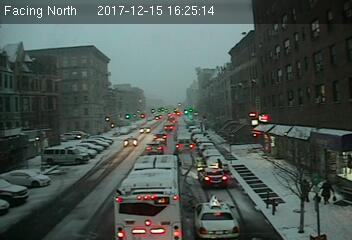bus: (111, 153, 187, 240)
car: (193, 198, 241, 237), (197, 167, 228, 186), (206, 157, 228, 170), (143, 143, 164, 155), (122, 137, 139, 147), (152, 133, 166, 141)
truck: (176, 136, 194, 152)
